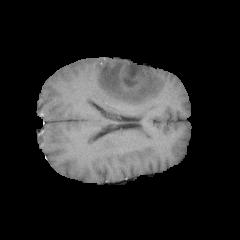glioma: (95, 60, 161, 108)
